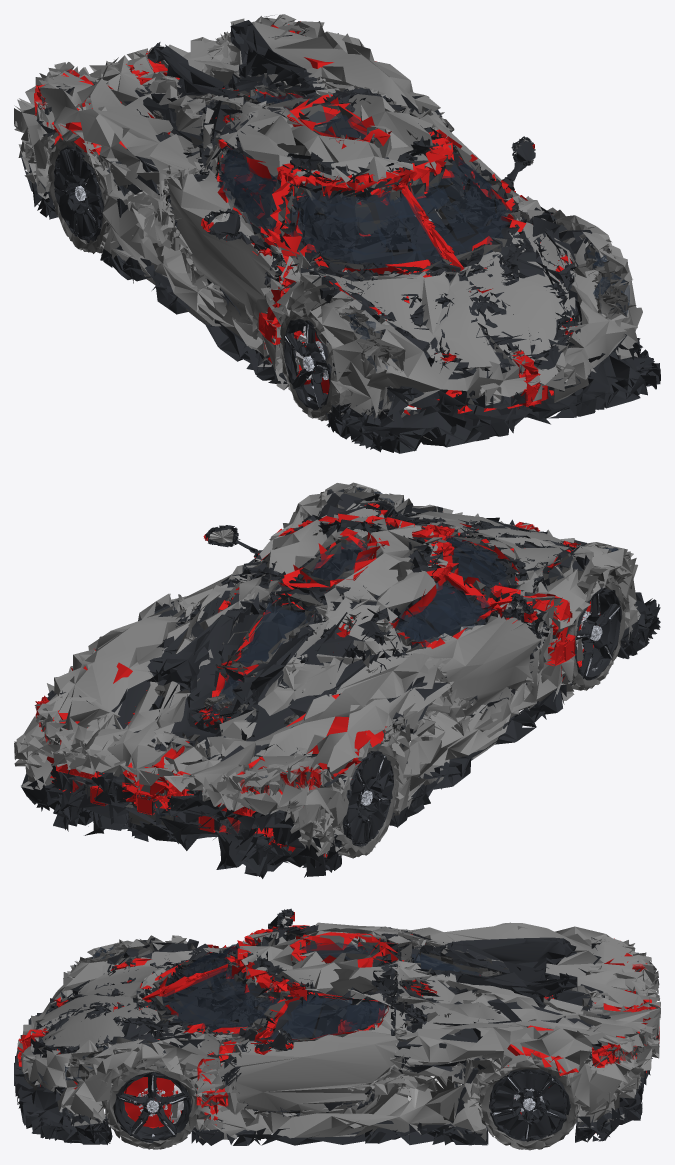
File: koenigsegg-jesko.obj
The picture shows the model from 3 angles, top to bottom: view 1: azimuth 30°, elevation 25°; view 2: azimuth 150°, elevation 25°; view 3: azimuth 270°, elevation 25°; orthographic projection. The views are drawn at different scales.
Visible parts, largest first — view 1: BODY, GLASS, WHEEL_RR, WHEEL_RF; view 2: BODY, GLASS, WHEEL_RR, WHEEL_RF; view 3: BODY, GLASS, WHEEL_LR, WHEEL_LF.
Part boxes in pixels (x1,y1,x2,y2): BODY: [14, 14, 660, 453]; GLASS: [35, 69, 629, 375]; WHEEL_RR: [48, 137, 110, 253]; WHEEL_RF: [279, 307, 338, 421]; BODY: [14, 482, 660, 878]; GLASS: [36, 486, 618, 833]; WHEEL_RR: [337, 733, 399, 858]; WHEEL_RF: [568, 576, 626, 690]; BODY: [14, 908, 660, 1145]; GLASS: [64, 942, 647, 1099]; WHEEL_LR: [478, 1059, 579, 1150]; WHEEL_LF: [104, 1060, 200, 1149].
Size of the model in its own units: 2.25 by 1.19 by 4.64.
